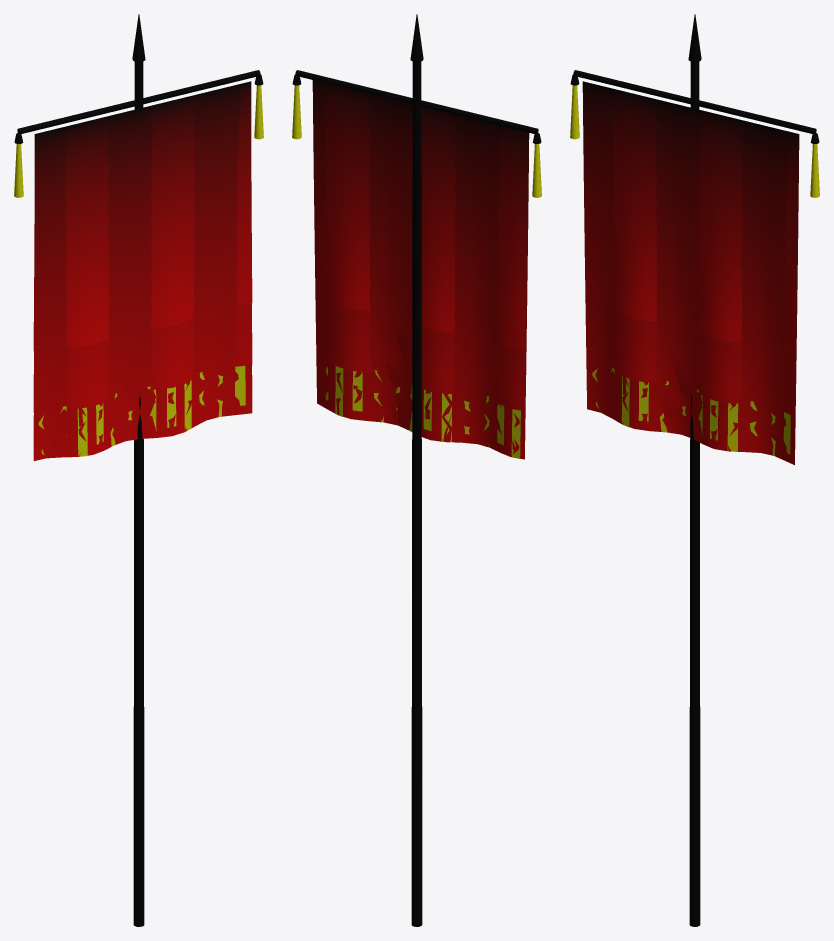
File: banner_cloth.lod0.glb
3 views of the same model, side by side, from view 1: azimuth 30°, elevation 25°; view 2: azimuth 150°, elevation 25°; view 3: azimuth 330°, elevation 25° (orthographic).
Parts seen in each view (by area): view 1: cloth_square, cloth_notched, cloth_swallowtail, cloth_streamer, cloth_fringed, pole, cloth_pennant, fringe_fringed, crossbar, tassels; view 2: cloth_square, cloth_notched, cloth_streamer, cloth_swallowtail, pole, cloth_fringed, cloth_pennant, fringe_fringed, crossbar, tassels; view 3: cloth_square, cloth_notched, cloth_swallowtail, cloth_streamer, cloth_fringed, pole, cloth_pennant, fringe_fringed, crossbar, tassels.
Part boxes in pixels (left/top/right/bottom): cloth_square: left=33, top=82, right=252, bottom=350; cloth_notched: left=33, top=91, right=252, bottom=460; cloth_swallowtail: left=33, top=81, right=252, bottom=460; cloth_streamer: left=53, top=96, right=230, bottom=442; cloth_fringed: left=33, top=121, right=252, bottom=412; pole: left=133, top=61, right=144, bottom=926; cloth_pennant: left=42, top=86, right=242, bottom=427; fringe_fringed: left=38, top=365, right=245, bottom=456; crossbar: left=17, top=70, right=260, bottom=134; tassels: left=14, top=74, right=263, bottom=197; cloth_square: left=325, top=84, right=529, bottom=349; cloth_notched: left=313, top=100, right=528, bottom=459; cloth_streamer: left=326, top=83, right=502, bottom=441; cloth_swallowtail: left=312, top=80, right=529, bottom=459; pole: left=411, top=61, right=422, bottom=926; cloth_fringed: left=322, top=82, right=529, bottom=410; cloth_pennant: left=314, top=80, right=502, bottom=424; fringe_fringed: left=325, top=366, right=520, bottom=458; crossbar: left=295, top=70, right=538, bottom=134; tassels: left=292, top=74, right=541, bottom=197; cloth_square: left=612, top=92, right=799, bottom=355; cloth_notched: left=583, top=91, right=798, bottom=465; cloth_swallowtail: left=582, top=81, right=799, bottom=463; cloth_streamer: left=602, top=89, right=779, bottom=448; cloth_fringed: left=607, top=92, right=799, bottom=416; pole: left=689, top=61, right=700, bottom=926; cloth_pennant: left=590, top=92, right=790, bottom=423; fringe_fringed: left=592, top=368, right=790, bottom=456; crossbar: left=573, top=70, right=816, bottom=134; tassels: left=570, top=74, right=819, bottom=197.
Size of the model in its own units: 1.26 by 4.42 by 0.0947.
